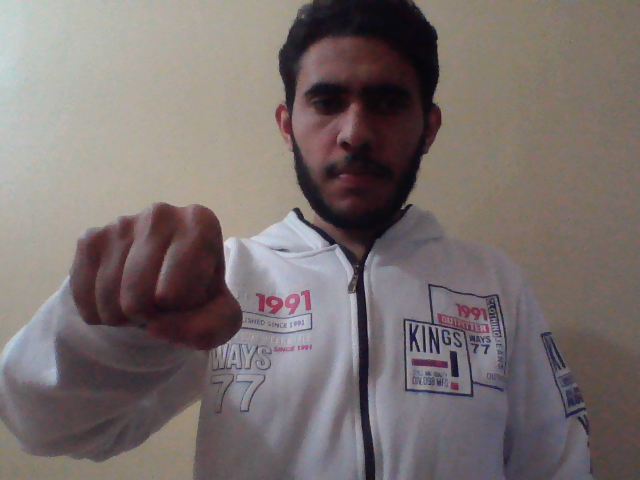yes: (61, 200, 243, 362)
